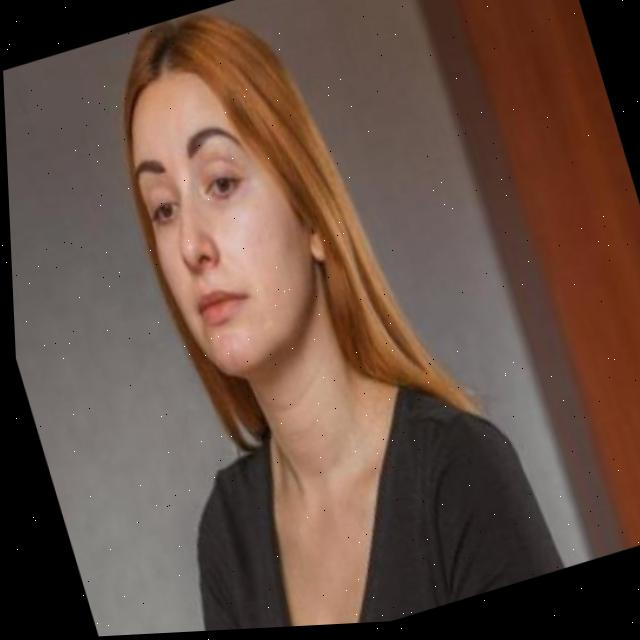Acne: (214, 338, 258, 368)
